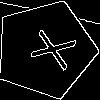X: (20, 24, 77, 72)
